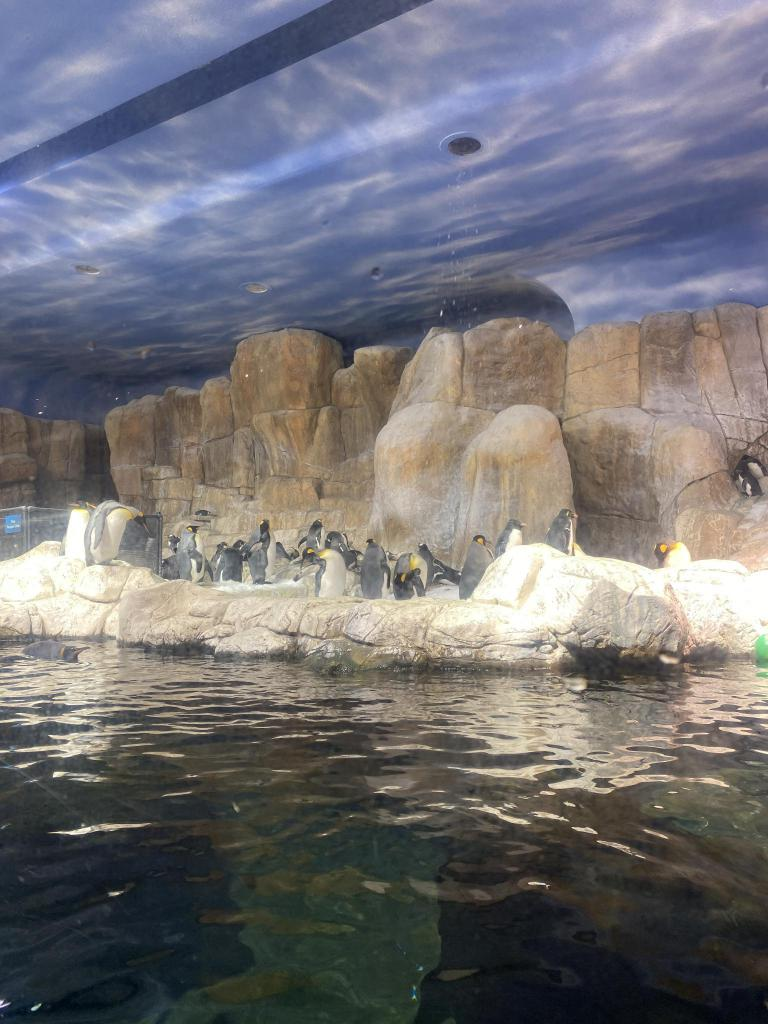penguin: (91, 494, 137, 568), (178, 520, 226, 588), (62, 494, 94, 564), (253, 513, 277, 553), (164, 536, 184, 568)
